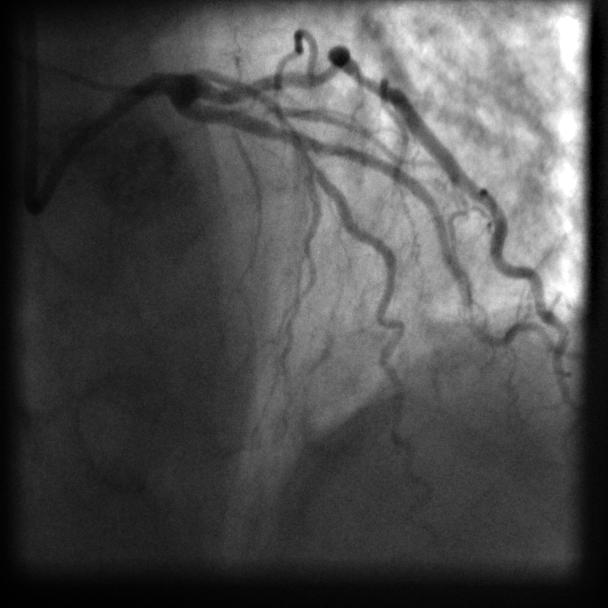Stenosis: (276, 98, 306, 163)
